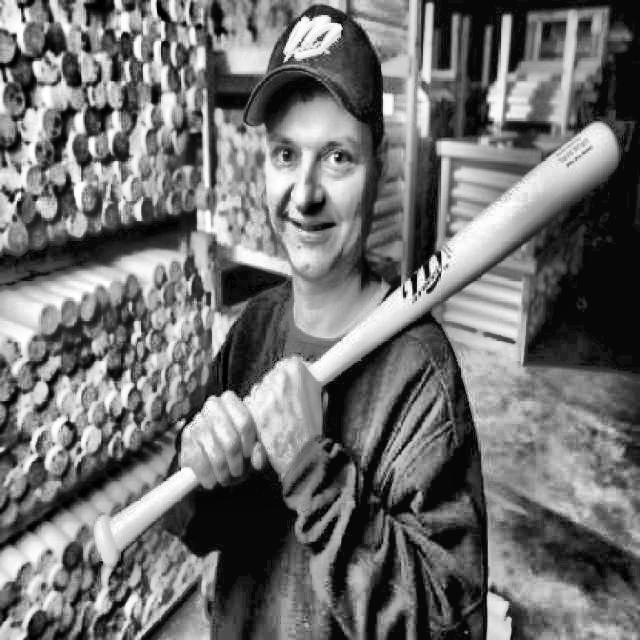tongkat pemukul: (82, 113, 629, 575)
